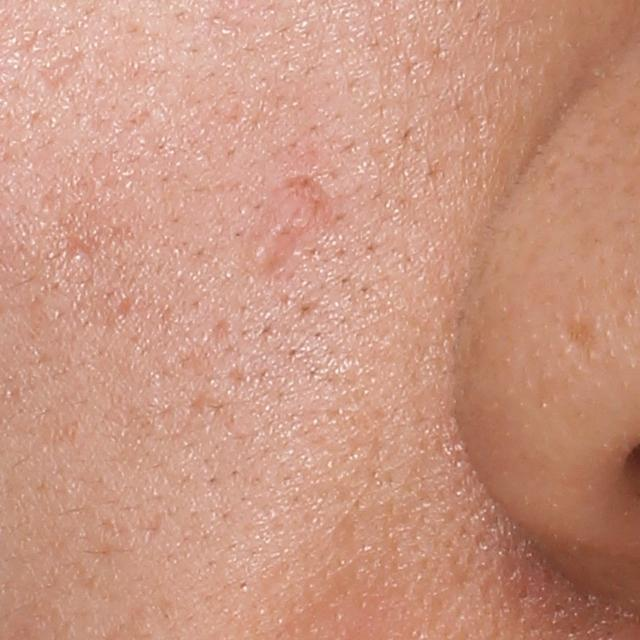atrophic_scar: (39, 51, 84, 94)
melasma: (570, 311, 597, 354)
